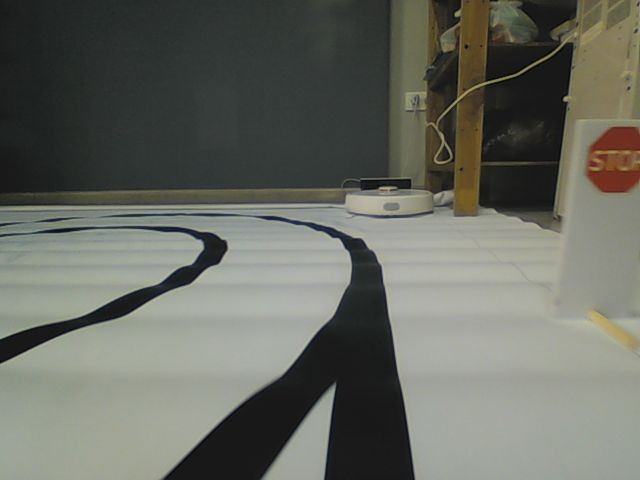Stop: (586, 124, 640, 194)
